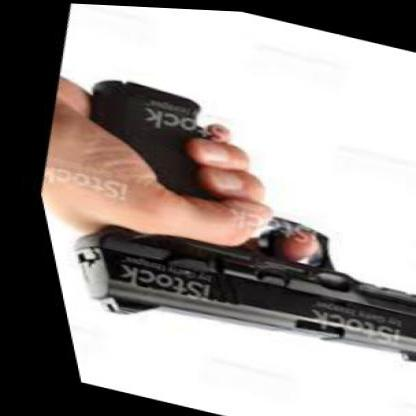pistol: (11, 72, 412, 393)
